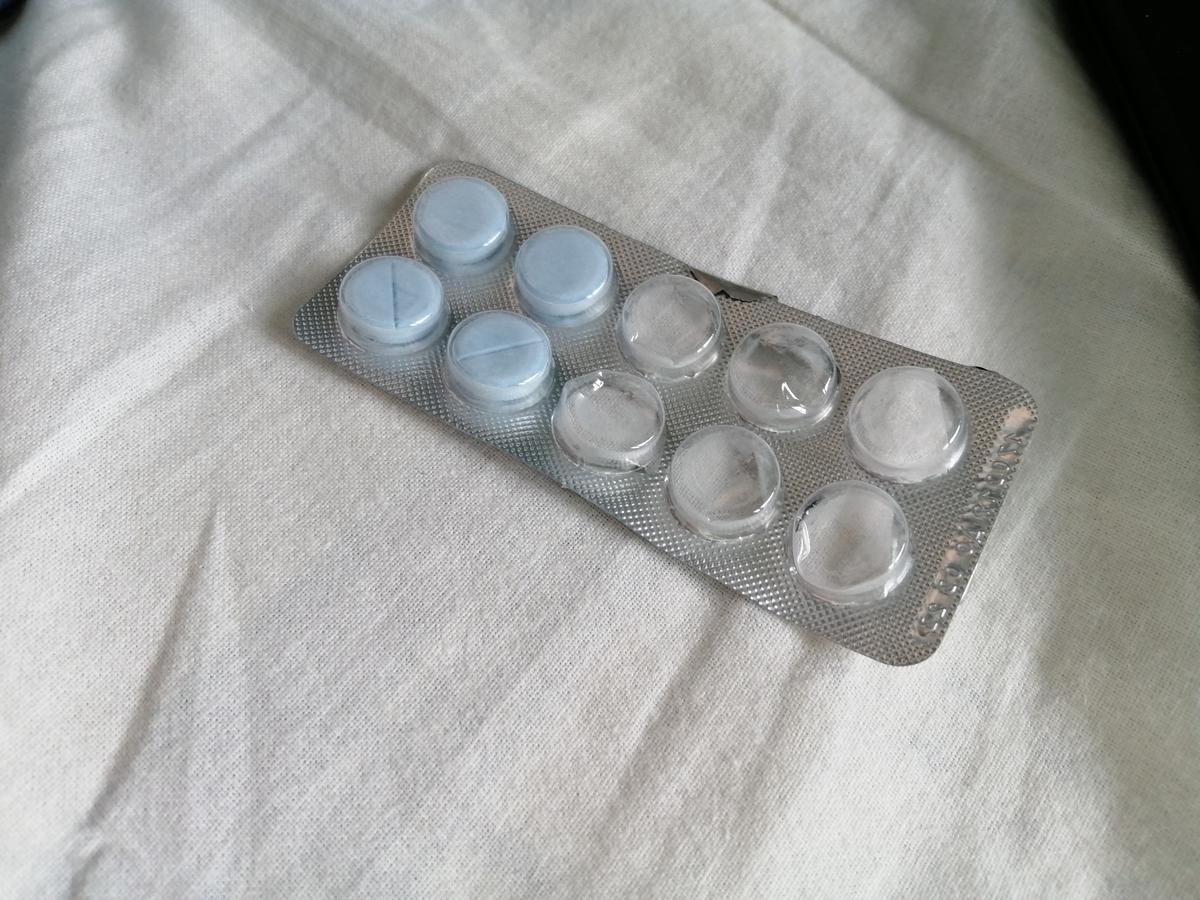tablet: (451, 307, 552, 411), (337, 254, 447, 347), (512, 222, 614, 318), (412, 173, 512, 263)
